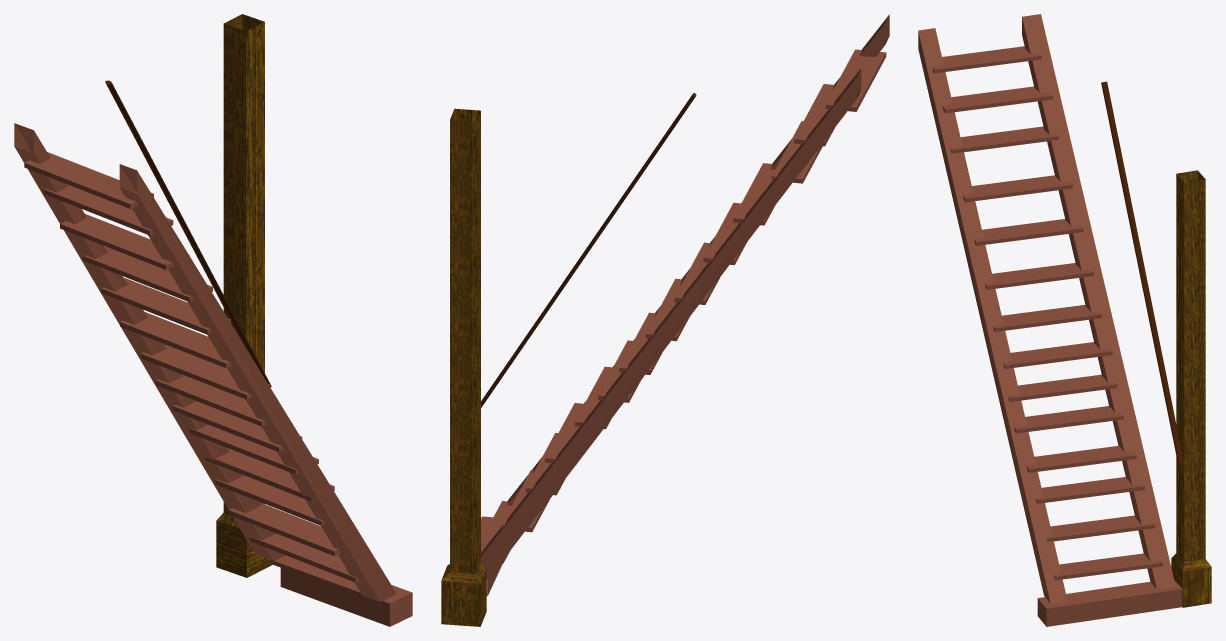
Rendered from schody.dae.
3 renders of one model, left to right at view 1: azimuth 30°, elevation 25°; view 2: azimuth 150°, elevation 25°; view 3: azimuth 270°, elevation 25°, orthographic. The views are drawn at different scales.
Visible parts, largest first — view 1: group_0 (×2), group_2, group_3, group_1, group_14, group_15, group_4, group_11, group_12, group_10, group_13, group_9 (+6 smaller); view 2: group_0 (×2), group_3, group_15, group_2, group_13, group_16, group_7, group_12, group_11, group_10, group_9, group_14 (+1 smaller); view 3: group_0 (×2), group_3, group_2, group_1, group_7, group_16, group_13, group_8, group_12, group_5, group_9, group_6 (+6 smaller).
Boxes of the visible parts, x1,y1,x2,y2 form: group_0 (×2): (106, 14, 272, 577); group_2: (119, 164, 396, 601); group_3: (14, 123, 285, 560); group_1: (251, 551, 412, 626); group_14: (60, 214, 189, 269); group_15: (24, 152, 153, 208); group_4: (228, 503, 340, 555); group_11: (120, 312, 249, 367); group_12: (101, 278, 230, 334); group_10: (140, 344, 270, 399); group_13: (83, 246, 212, 302); group_9: (155, 375, 266, 426); group_0 (×2): (441, 94, 695, 626); group_3: (481, 68, 861, 580); group_15: (825, 49, 886, 111); group_2: (507, 14, 889, 505); group_13: (733, 163, 774, 225); group_16: (794, 84, 834, 146); group_7: (545, 403, 584, 464); group_12: (703, 202, 746, 264); group_11: (674, 242, 719, 304); group_10: (645, 278, 689, 341); group_9: (619, 312, 662, 374); group_14: (771, 121, 822, 183); group_0 (×2): (1101, 81, 1211, 607); group_3: (1022, 14, 1175, 589); group_2: (918, 28, 1067, 603); group_1: (1037, 580, 1182, 626); group_7: (1026, 446, 1136, 472); group_16: (942, 86, 1052, 113); group_13: (963, 175, 1072, 202); group_8: (1014, 406, 1123, 433); group_12: (974, 219, 1083, 245); group_5: (1054, 553, 1162, 580); group_9: (1003, 342, 1112, 368); group_6: (1036, 477, 1144, 503).
Size of the model in its own units: 106 by 86.37 by 150.
Materials: 4 (1 with a texture image).
